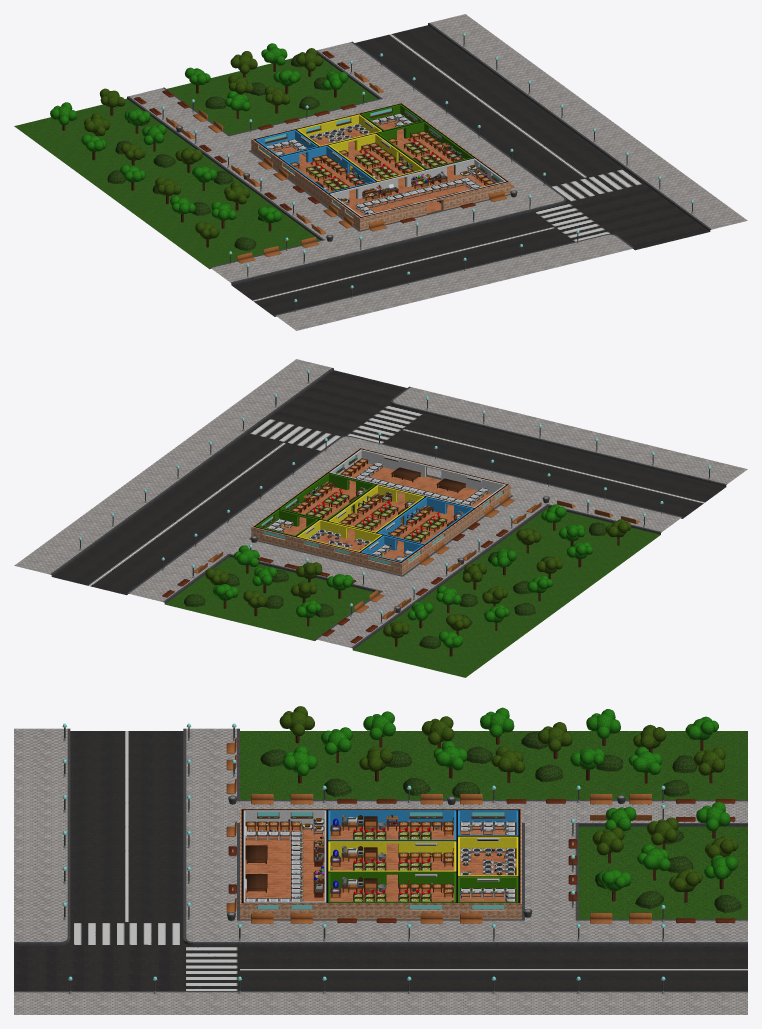
File: Shop.fbx
3 views of the same model, one above another, from view 1: azimuth 30°, elevation 25°; view 2: azimuth 150°, elevation 25°; view 3: azimuth 270°, elevation 25° (orthographic). The views are drawn at different scales.
Parts seen in each view (by area): view 1: FlowerShop, FlowerShopLightAndGlass; view 2: FlowerShop, FlowerShopLightAndGlass; view 3: FlowerShop, FlowerShopLightAndGlass.
Boxes of the visible parts, <box> form: FlowerShop: <box>14,14,747,330</box>; FlowerShopLightAndGlass: <box>266,114,481,214</box>; FlowerShop: <box>14,359,747,677</box>; FlowerShopLightAndGlass: <box>266,462,488,560</box>; FlowerShop: <box>14,706,747,1014</box>; FlowerShopLightAndGlass: <box>246,818,515,901</box>.
Bounding box in the file's own units: 12000 × 657 × 13000.
